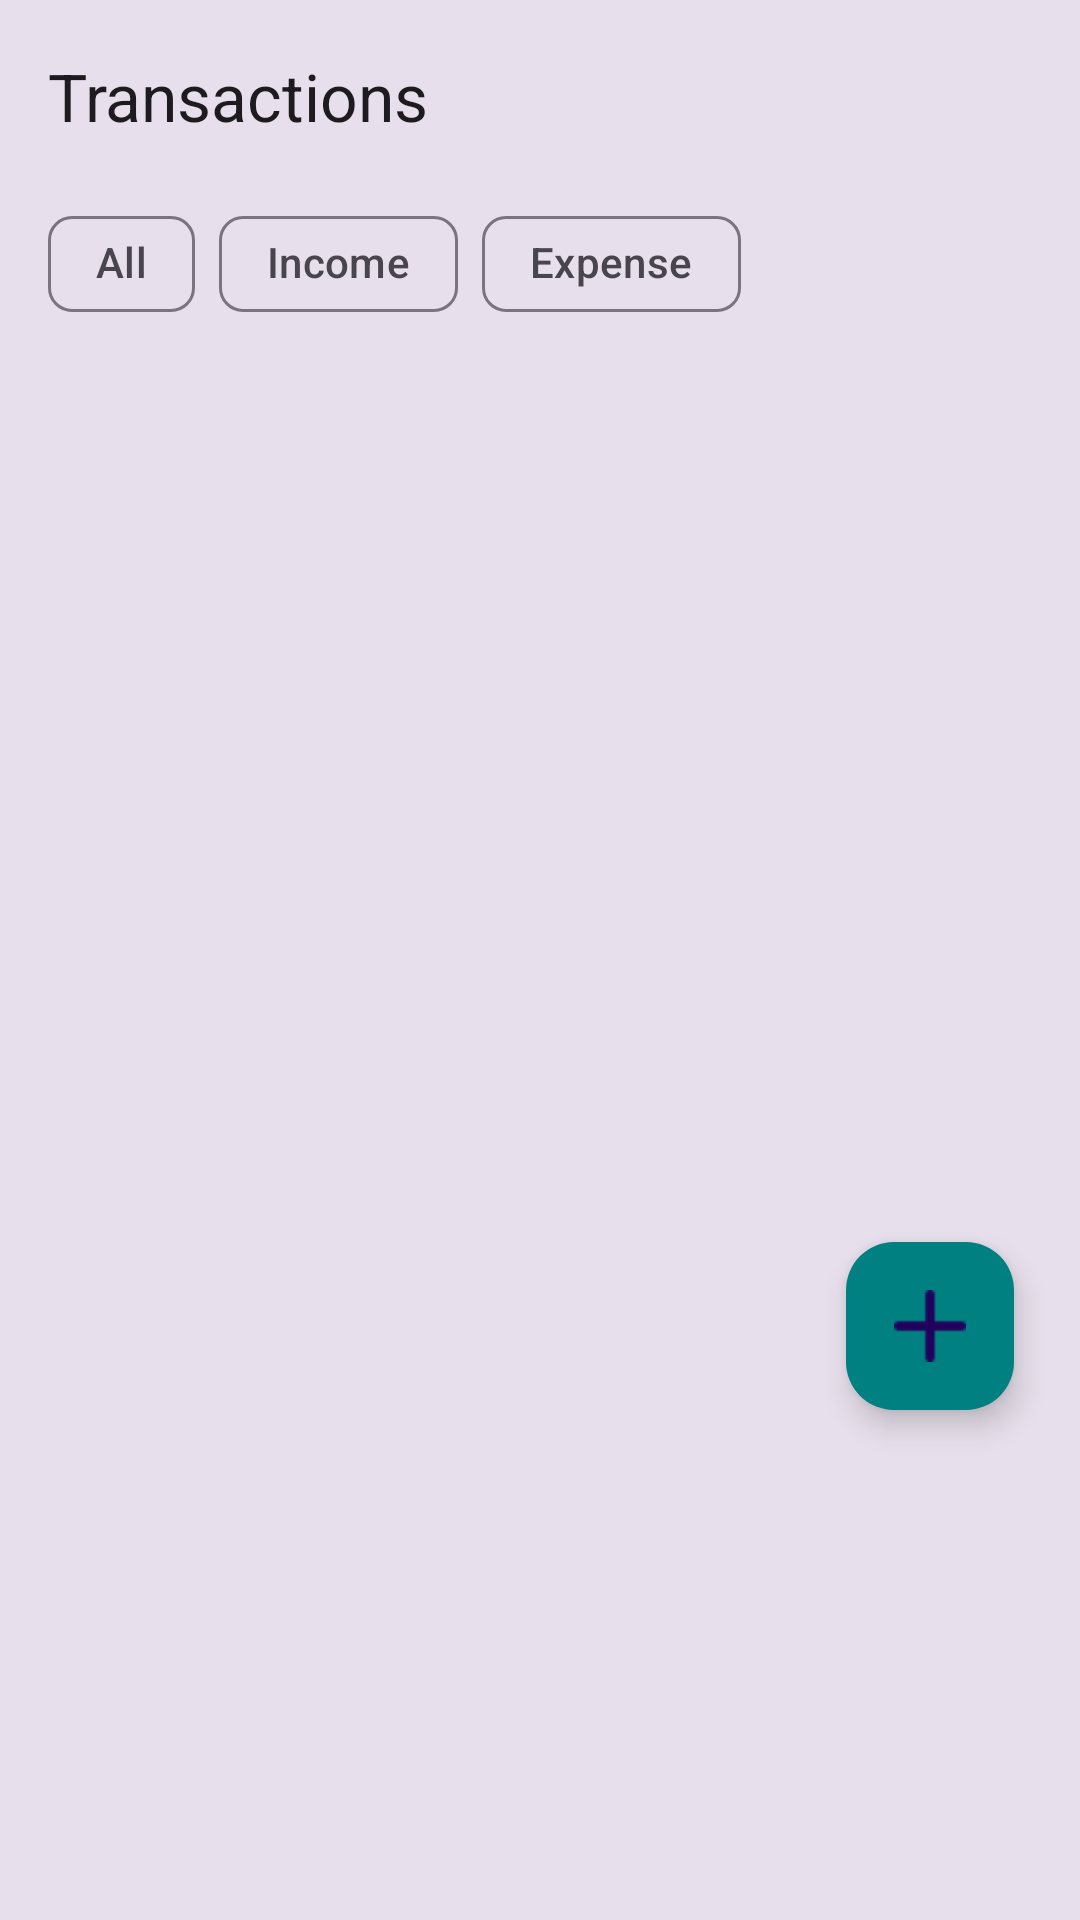

Where icons sit on this 1080*1920 app screen, as (x1, y1, x2, y2):
Add transaction: (846, 1242, 1014, 1410)
